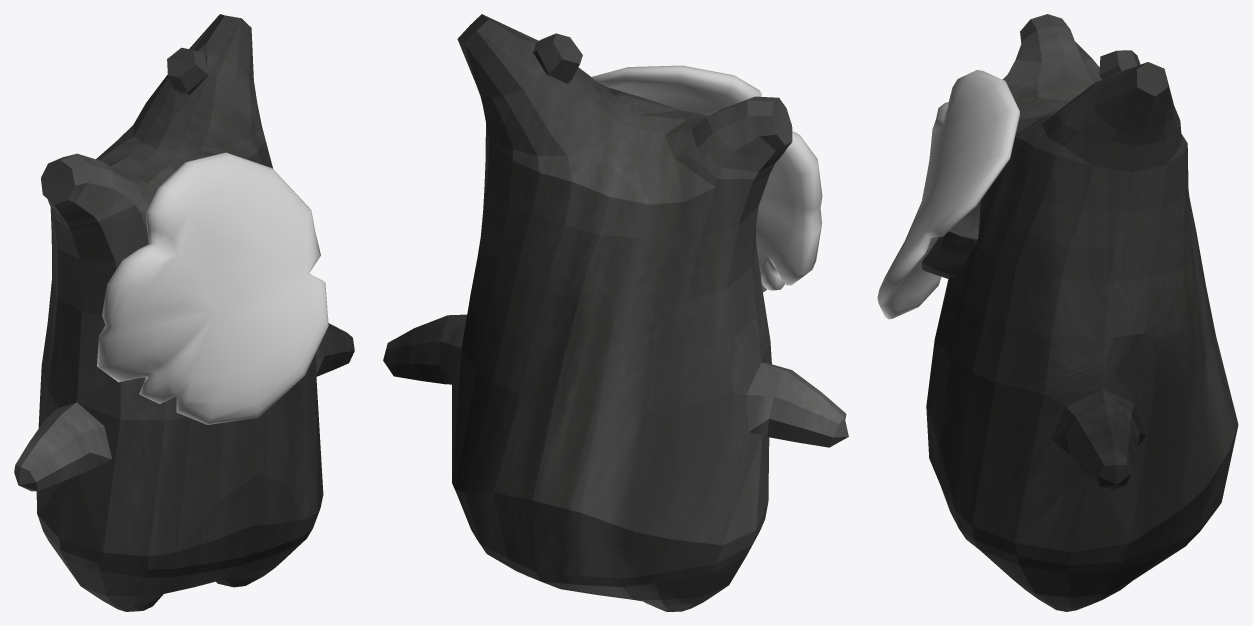
File: frame_0043.obj
3 views of the same model, side by side, from view 1: azimuth 30°, elevation 25°; view 2: azimuth 150°, elevation 25°; view 3: azimuth 270°, elevation 25° (orthographic). The views are drawn at different scales.
Parts seen in each view (by area): view 1: korok, leaf; view 2: korok, leaf; view 3: korok, leaf, nose.
Part boxes in pixels (x1,y1,x2,y2): korok: (14,14,354,611); leaf: (97,152,328,424); korok: (383,14,848,611); leaf: (591,65,822,292); korok: (926,14,1238,611); leaf: (877,70,1020,319); nose: (921,200,980,278).
Size of the model in its own units: 1.71 by 2.3 by 1.34.
